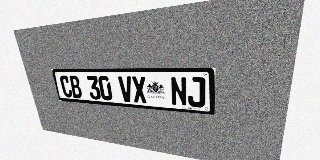0: (97, 76, 113, 101)
3: (86, 76, 101, 100)
B: (68, 76, 83, 98)
C: (59, 75, 73, 98)
J: (187, 77, 205, 108)
N: (170, 77, 187, 106)
V: (118, 76, 134, 102)
X: (131, 76, 147, 103)
